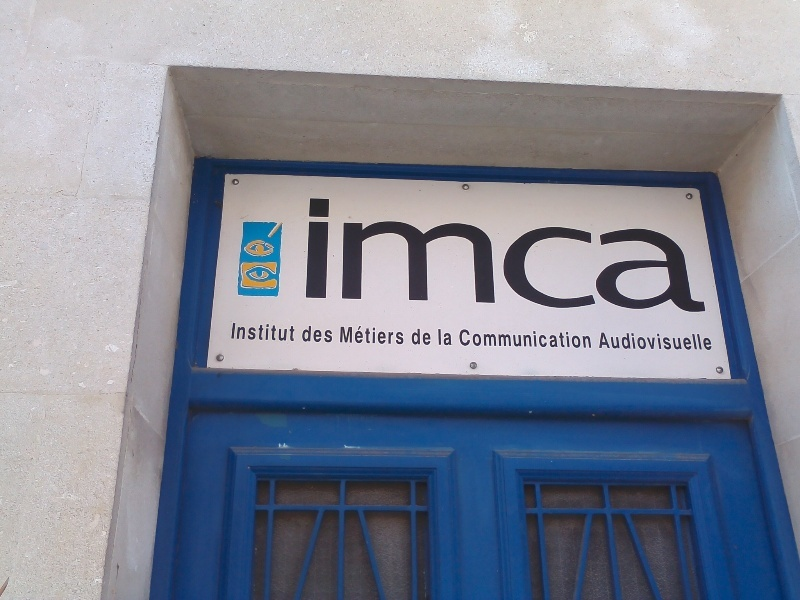text: (305, 193, 320, 321), (321, 193, 336, 321), (337, 193, 352, 321), (353, 193, 368, 321), (369, 193, 384, 321), (385, 193, 400, 321), (401, 193, 416, 321), (417, 193, 432, 321), (433, 193, 448, 321), (449, 193, 464, 321), (465, 193, 480, 321), (481, 193, 496, 321), (497, 193, 512, 321), (513, 193, 528, 321), (529, 193, 544, 321), (545, 193, 560, 321), (561, 193, 576, 321), (577, 193, 592, 321), (593, 193, 608, 321), (609, 193, 624, 321), (625, 193, 640, 321), (641, 193, 656, 321), (657, 193, 672, 321), (673, 193, 688, 321), (689, 193, 704, 321), (705, 193, 710, 321), (353, 324, 368, 347), (369, 324, 384, 347), (385, 324, 400, 347), (577, 329, 593, 349), (241, 323, 256, 343), (257, 323, 272, 343), (273, 323, 288, 343), (465, 329, 480, 349), (481, 329, 496, 349), (497, 329, 512, 349), (513, 329, 528, 349), (529, 329, 544, 349), (545, 329, 560, 349), (561, 329, 576, 349), (609, 332, 624, 352), (625, 332, 640, 352), (641, 332, 656, 352), (657, 332, 672, 352), (673, 332, 688, 352), (689, 332, 704, 352), (305, 324, 320, 343), (340, 324, 352, 347), (417, 328, 432, 346), (302, 193, 304, 321), (321, 324, 334, 343), (598, 332, 608, 352), (438, 328, 448, 346), (705, 332, 713, 352), (233, 323, 240, 343), (289, 323, 296, 343), (459, 329, 464, 349), (411, 328, 416, 346), (449, 328, 453, 346), (401, 324, 404, 347), (303, 324, 304, 343)
